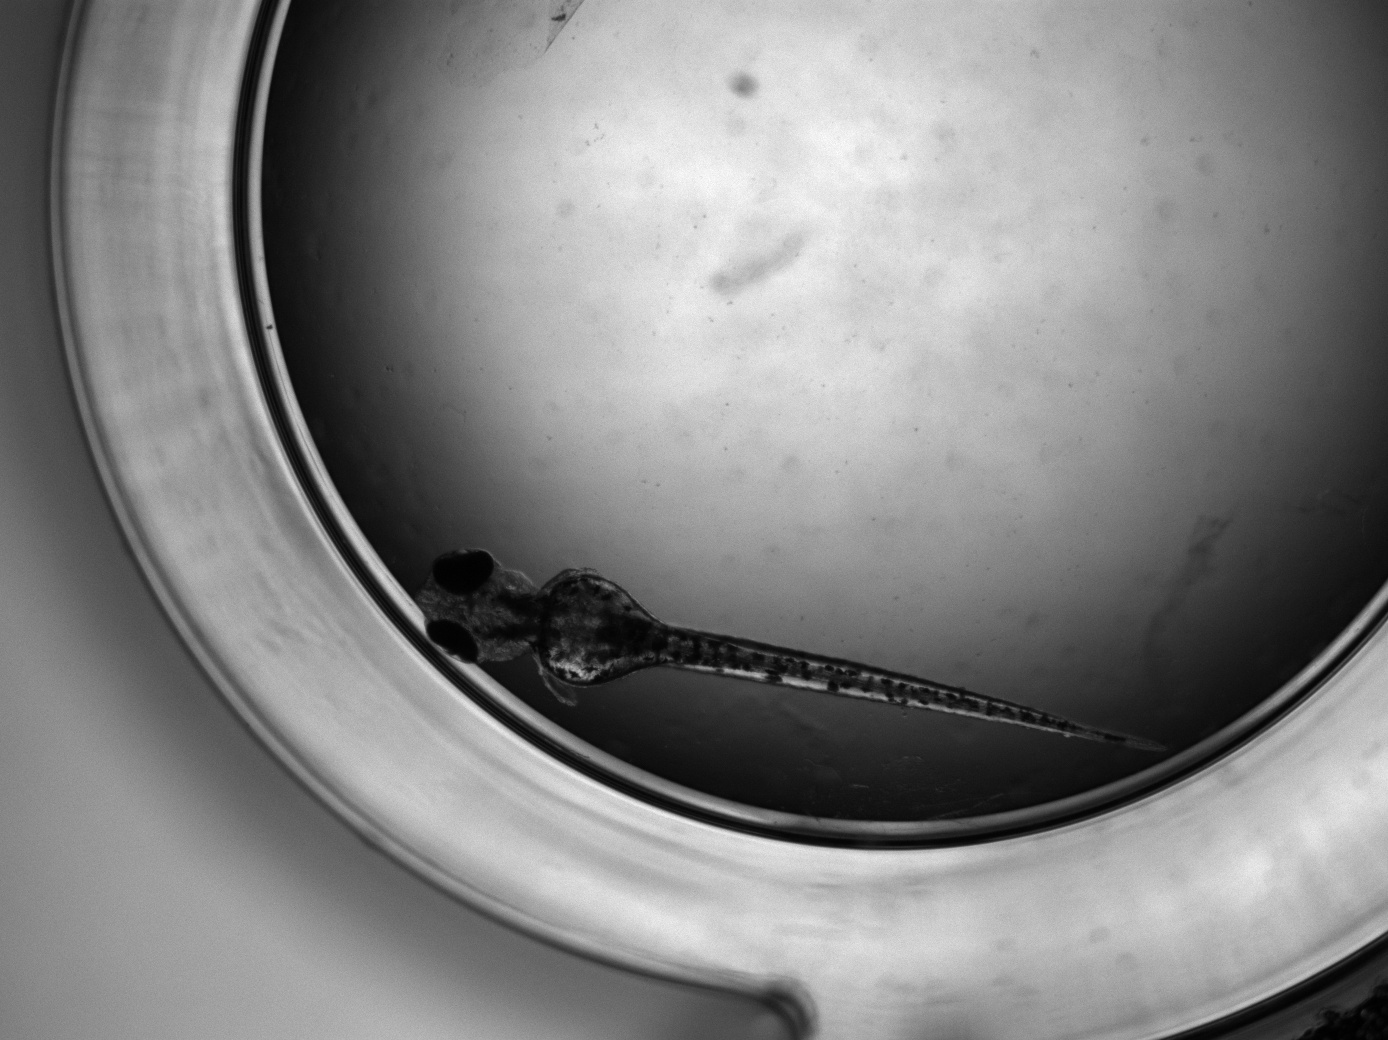embryo: (415, 547, 1159, 753)
eye: (430, 547, 494, 595), (425, 617, 479, 664)
yolksac: (538, 575, 656, 687)
